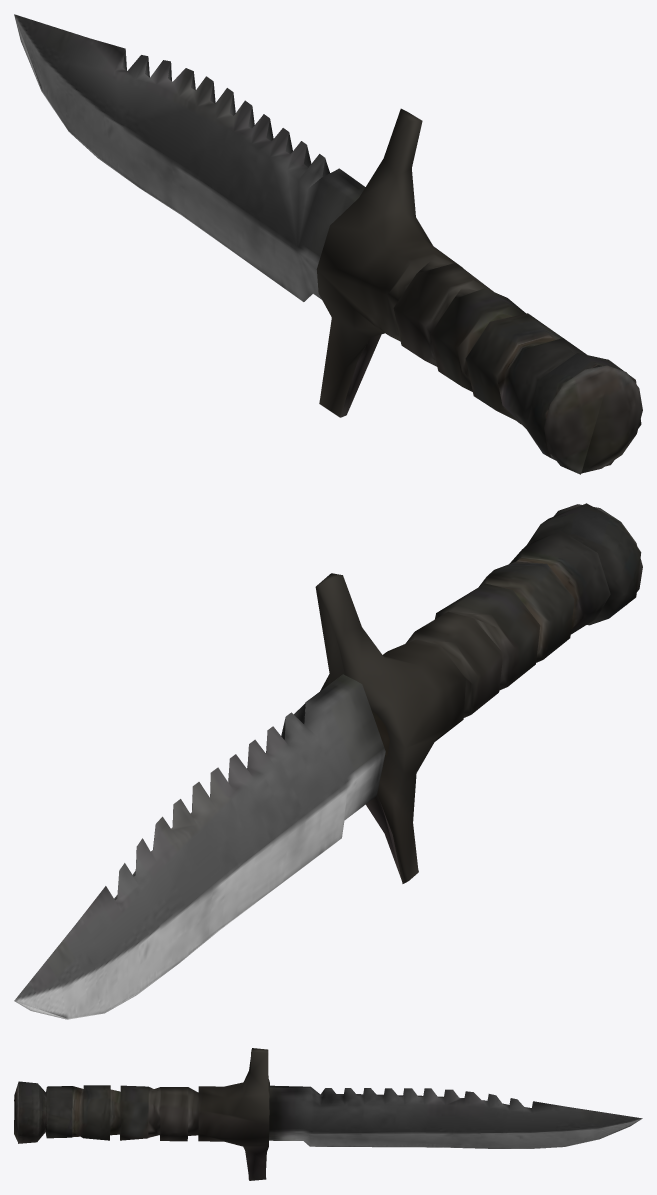
The model's file is arma_tp.glb.
3 views of the same model, one above another, from view 1: azimuth 30°, elevation 25°; view 2: azimuth 150°, elevation 25°; view 3: azimuth 270°, elevation 25° (orthographic). The views are drawn at different scales.
Parts seen in each view (by area): view 1: cuerpo; view 2: cuerpo; view 3: cuerpo.
Boxes of the visible parts, left/top/right/bottom form: cuerpo: left=14, top=14, right=642, bottom=474; cuerpo: left=14, top=503, right=642, bottom=1019; cuerpo: left=14, top=1048, right=642, bottom=1180.
Bounding box in the file's own units: 0.0328 × 0.0873 × 0.3301.
2 materials, 2 textured.
